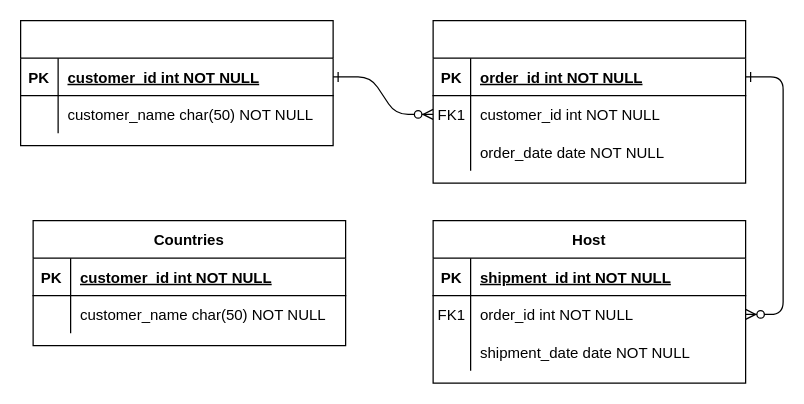
This 804x404 diagram has some shape labels left out. Each missing label, with the box of its shape:
Cities: (432, 19, 746, 183)
Sports: (19, 19, 333, 146)
